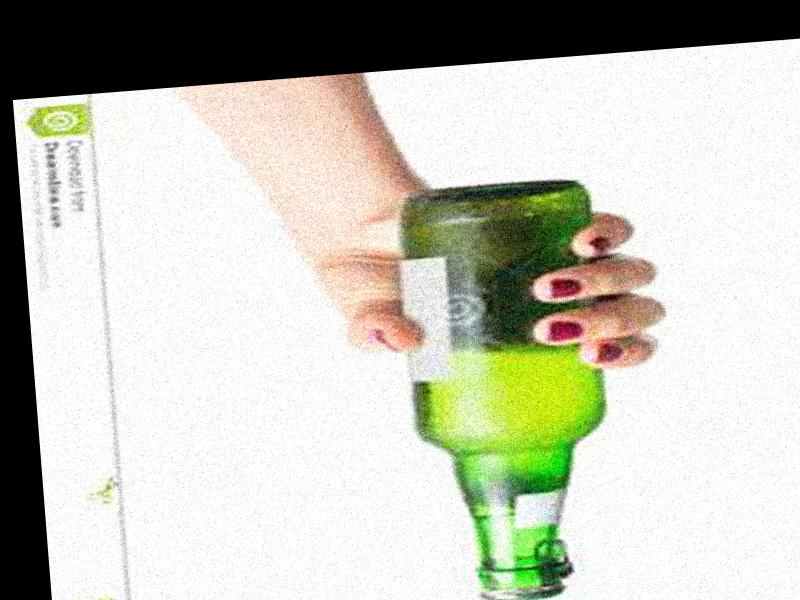Beer: (389, 177, 632, 600)
